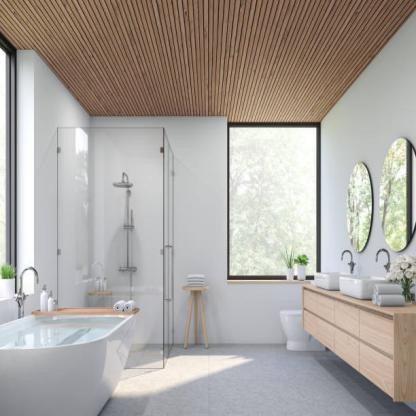Window: (226, 126, 322, 280)
